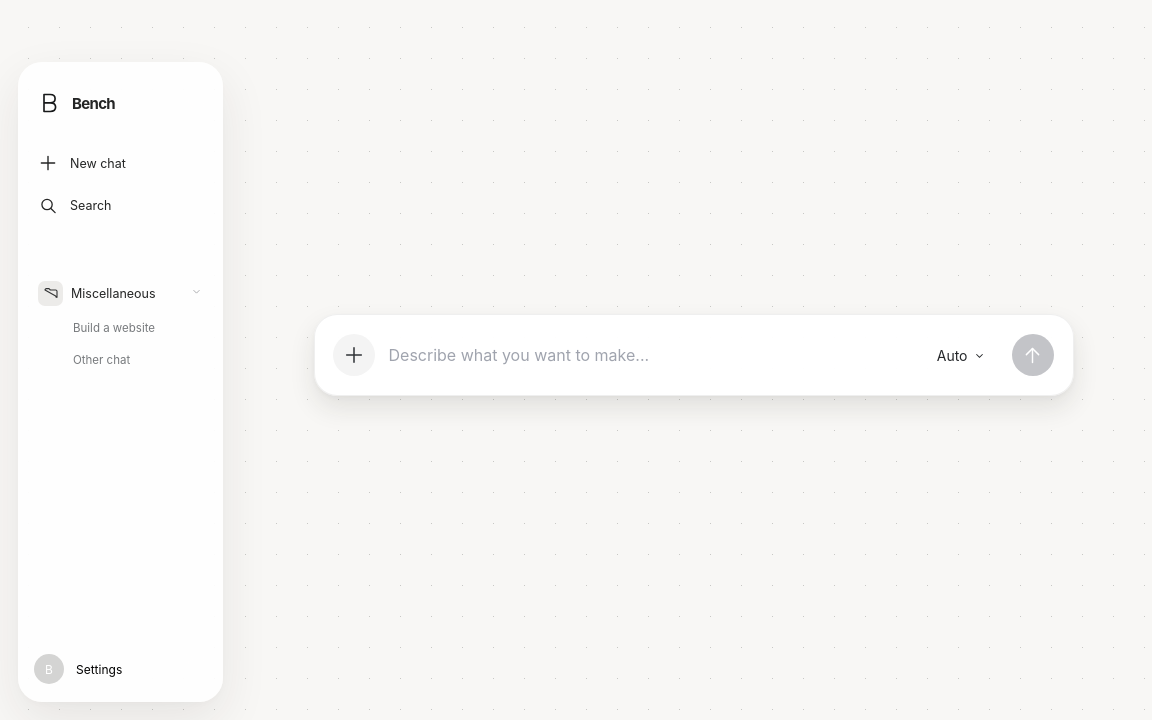
Test: Website authorization flow › does not let a slow conversation load overwrite the selected conversation
Click the button "Build a website" at (120, 328), box x1=30 y1=312 x2=211 y2=344
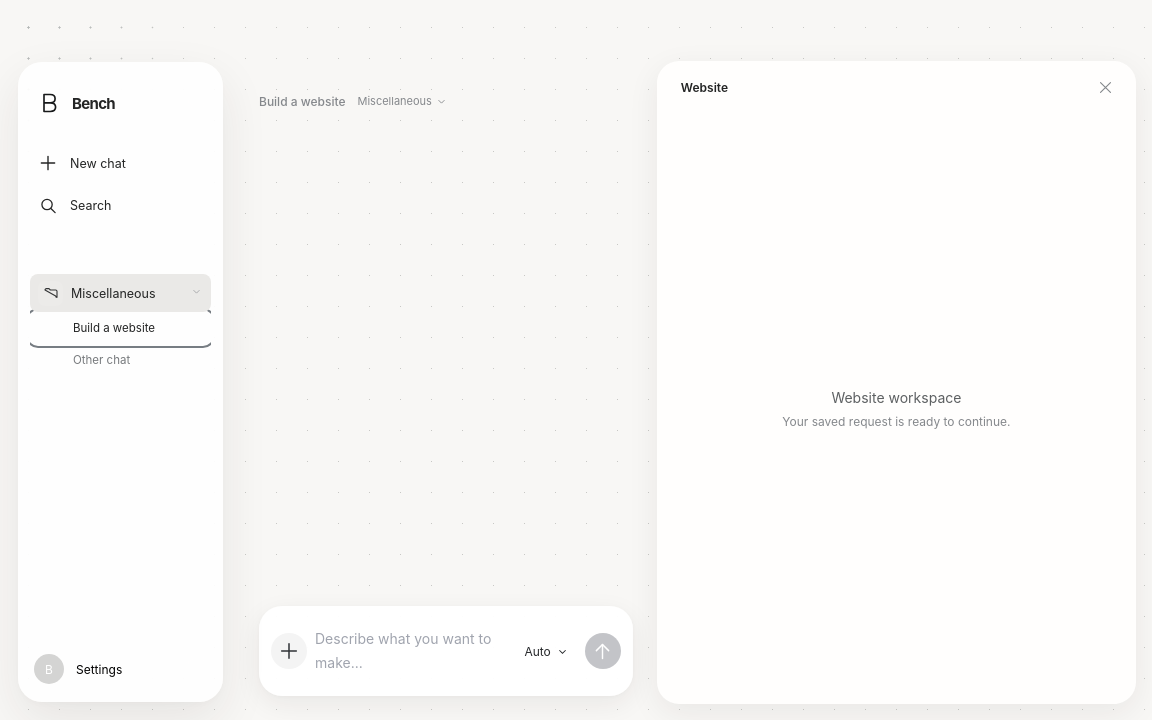
Click the button "Other chat" at (120, 360), box x1=30 y1=344 x2=211 y2=376
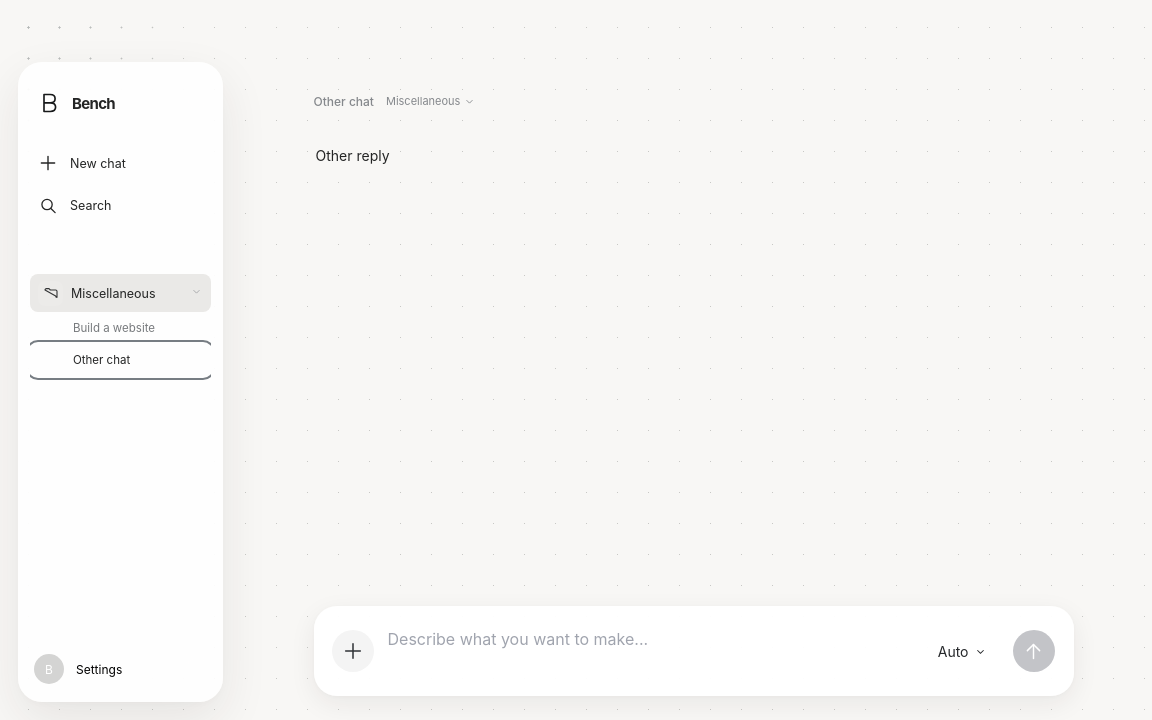
Now the text "Other reply" is shown, box x1=316 y1=147 x2=390 y2=164
